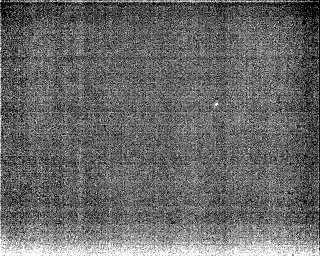BIRD: (211, 99, 221, 110)
